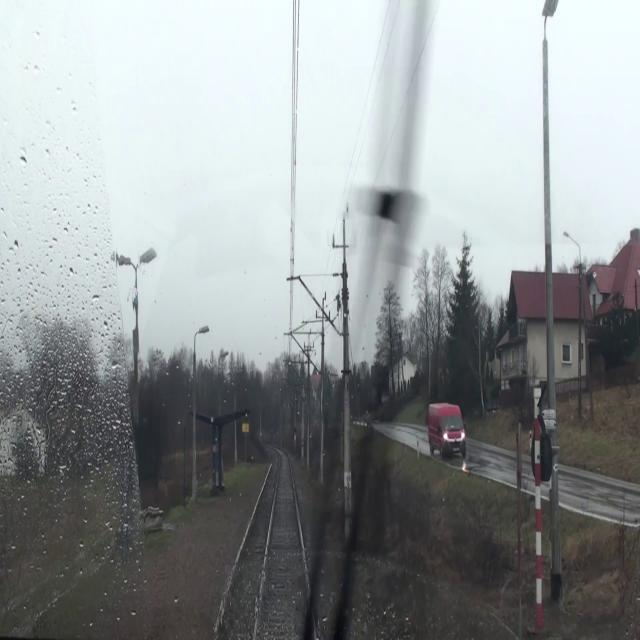rail-track: (0, 532, 116, 639), (260, 455, 311, 639)
